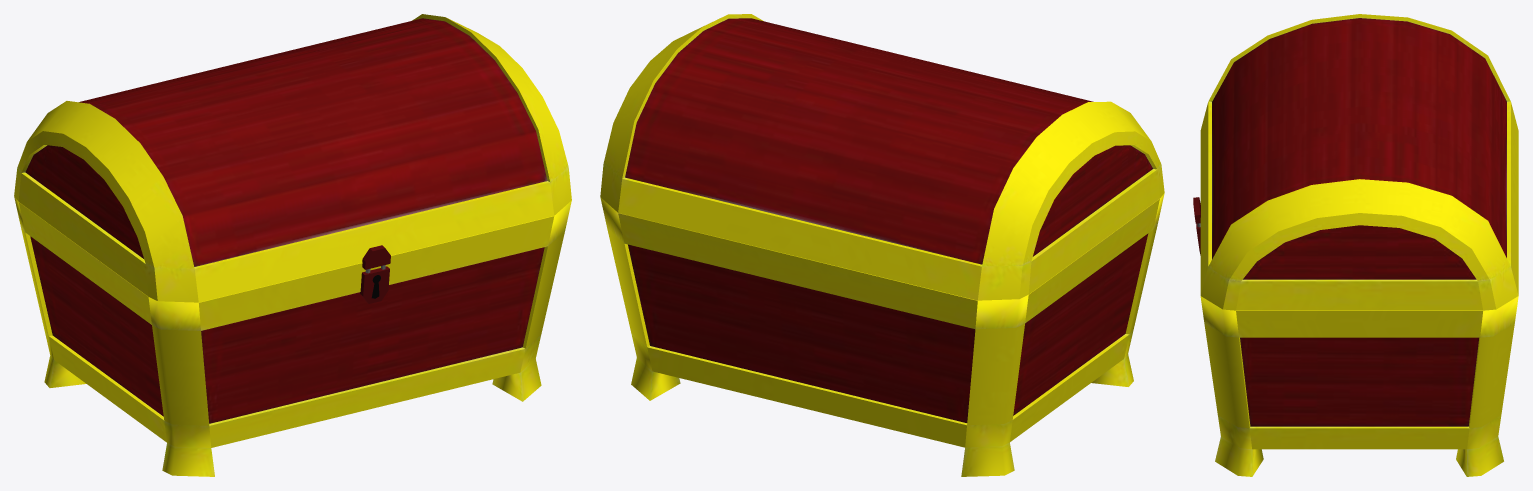
The model's file is Quest.fbx.
3 views of the same model, side by side, from view 1: azimuth 30°, elevation 25°; view 2: azimuth 150°, elevation 25°; view 3: azimuth 270°, elevation 25° (orthographic). The views are drawn at different scales.
Parts seen in each view (by area): view 1: Quest top, Quest; view 2: Quest top, Quest; view 3: Quest top, Quest.
Boxes of the visible parts, x1=… form: Quest top: x1=14, y1=14, x2=571, y2=302; Quest: x1=14, y1=197, x2=571, y2=476; Quest top: x1=600, y1=14, x2=1164, y2=300; Quest: x1=600, y1=193, x2=1164, y2=476; Quest top: x1=1193, y1=14, x2=1518, y2=310; Quest: x1=1196, y1=223, x2=1518, y2=476.
Bounding box in the file's own units: 279 × 196 × 197.
